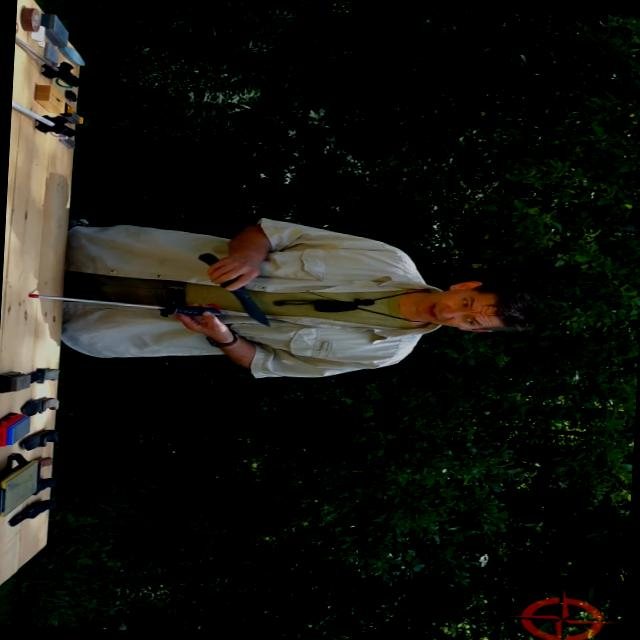knife: (193, 248, 278, 329)
